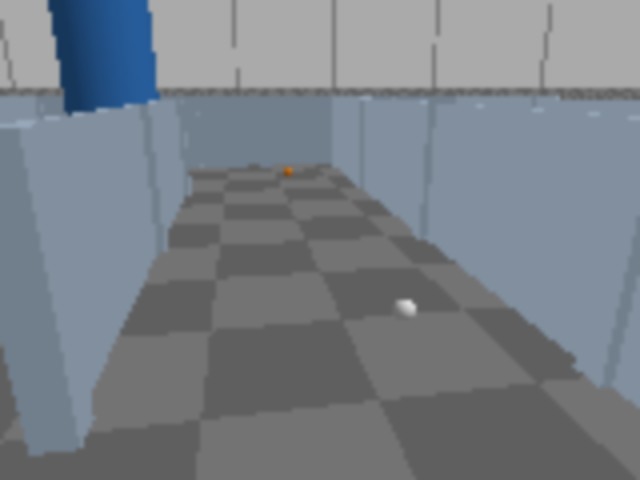puck: (391, 294, 416, 326)
